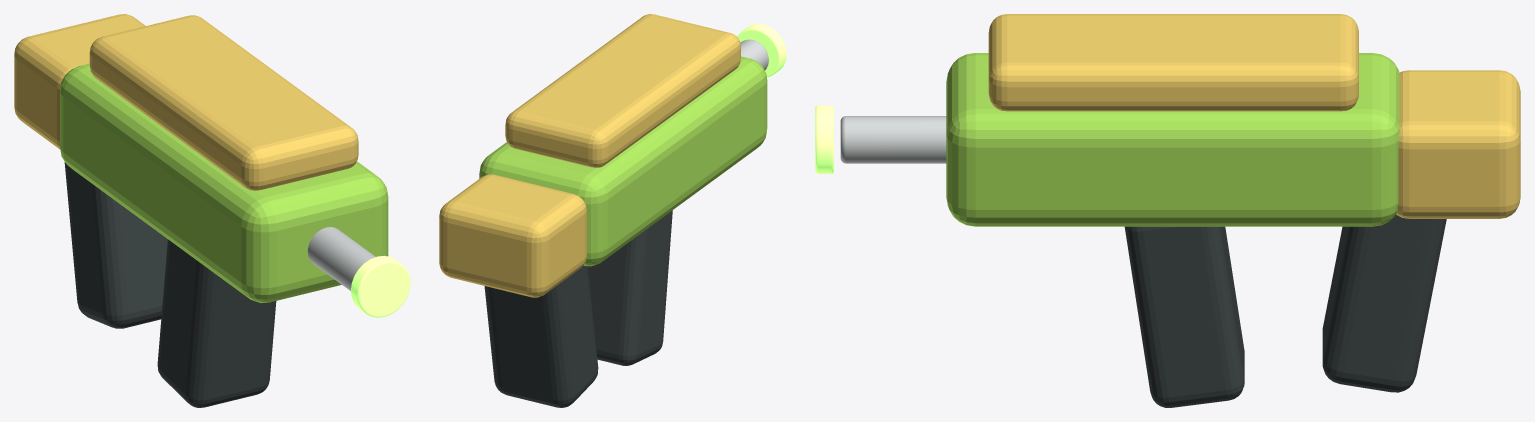
File: smg.glb
3 views of the same model, side by side, from view 1: azimuth 30°, elevation 25°; view 2: azimuth 150°, elevation 25°; view 3: azimuth 270°, elevation 25° (orthographic). The views are drawn at different scales.
Parts seen in each view (by area): view 1: Body, TopRail, Magazine, Grip, StubStock, SMGMuzzleGlow, SMGBarrel; view 2: Body, TopRail, StubStock, Grip, Magazine, SMGMuzzleGlow, SMGBarrel; view 3: Body, TopRail, StubStock, Magazine, Grip, SMGBarrel, SMGMuzzleGlow.
Boxes of the visible parts, left/top/right/bottom form: Body: left=60, top=63, right=388, bottom=303; TopRail: left=89, top=15, right=358, bottom=190; Magazine: left=157, top=239, right=276, bottom=407; Grip: left=64, top=162, right=167, bottom=328; StubStock: left=14, top=14, right=145, bottom=149; SMGMuzzleGlow: left=351, top=255, right=410, bottom=317; SMGBarrel: left=307, top=227, right=375, bottom=290; Body: left=479, top=56, right=767, bottom=266; TopRail: left=505, top=14, right=740, bottom=167; StubStock: left=439, top=174, right=586, bottom=297; Grip: left=484, top=265, right=598, bottom=407; Magazine: left=587, top=210, right=672, bottom=365; SMGMuzzleGlow: left=737, top=24, right=786, bottom=77; SMGBarrel: left=740, top=39, right=768, bottom=70; Body: left=946, top=53, right=1399, bottom=226; TopRail: left=988, top=14, right=1358, bottom=111; StubStock: left=1396, top=70, right=1520, bottom=218; Magazine: left=1124, top=226, right=1244, bottom=407; Grip: left=1322, top=214, right=1446, bottom=392; SMGBarrel: left=840, top=116, right=946, bottom=163; SMGMuzzleGlow: left=815, top=105, right=833, bottom=173.
Size of the model in its own units: 0.35 by 0.7356 by 1.33.
